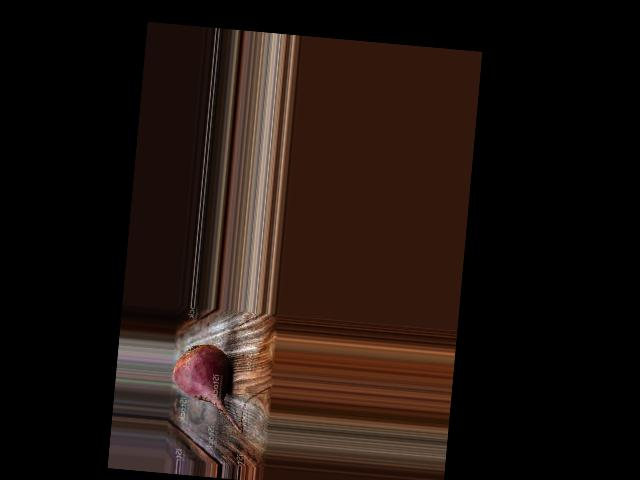beet: (168, 342, 250, 434)
